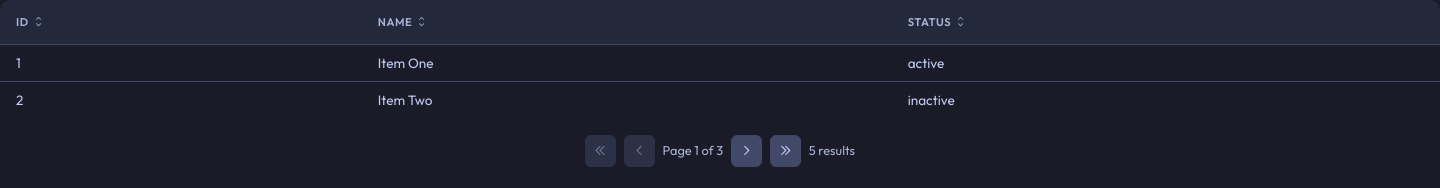
Test: DataTable › pagination › navigates to next page
Check: the text "Item One" is shown, box [362, 44, 892, 82]
Check: the text "Item Three" is not shown
Click the button named "next" at (746,151), box [731, 135, 762, 167]
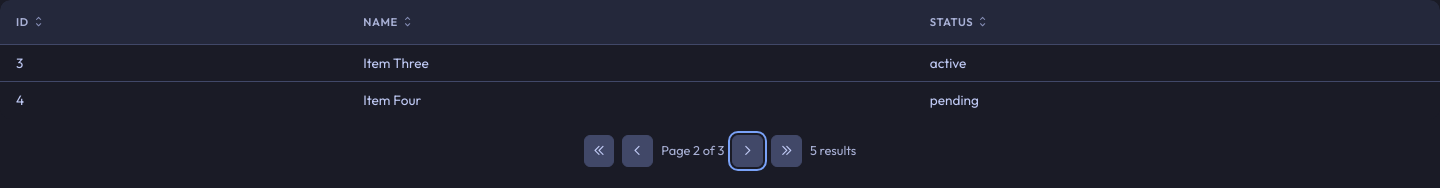
Check: the text "Item One" is gone
Check: the text "Item Three" is shown, box [347, 44, 914, 82]
